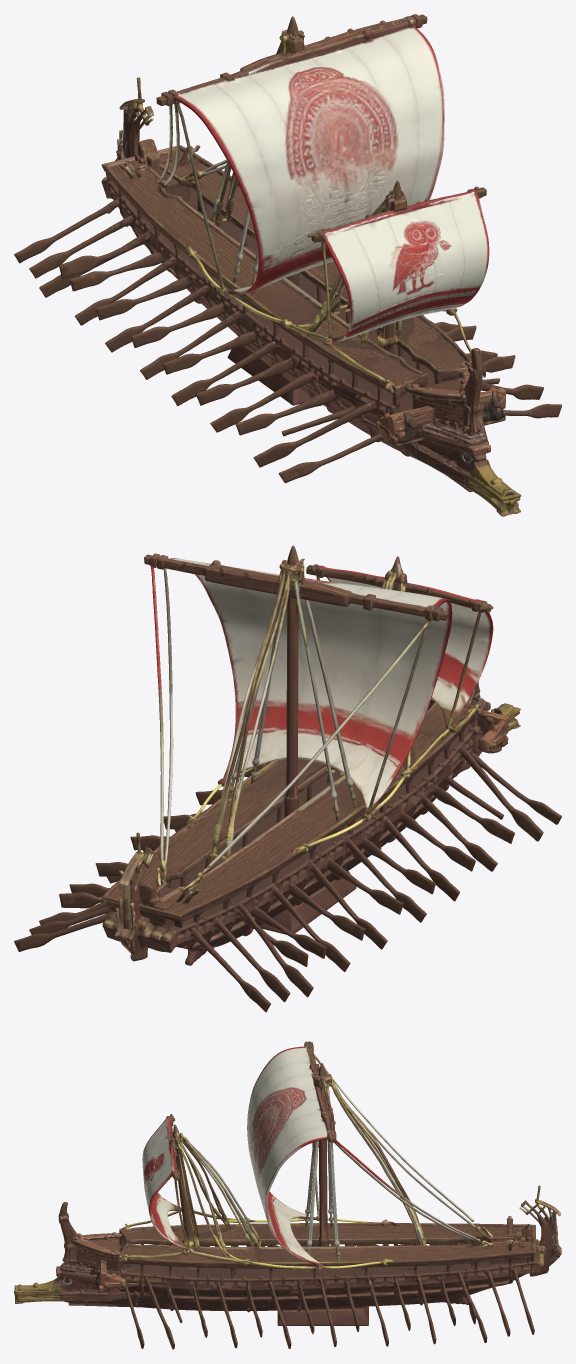
The model's file is Athenian_Greek_Trireme.min.glb.
3 views of the same model, one above another, from view 1: azimuth 30°, elevation 25°; view 2: azimuth 150°, elevation 25°; view 3: azimuth 270°, elevation 25° (orthographic). The views are drawn at different scales.
Visible parts, largest first — view 1: tripo_node_2a0d0580-4efe-495e-9dae-9c11eb5a89bf; view 2: tripo_node_2a0d0580-4efe-495e-9dae-9c11eb5a89bf; view 3: tripo_node_2a0d0580-4efe-495e-9dae-9c11eb5a89bf.
Boxes of the visible parts, x1=… form: tripo_node_2a0d0580-4efe-495e-9dae-9c11eb5a89bf: x1=14, y1=14, x2=561, y2=516; tripo_node_2a0d0580-4efe-495e-9dae-9c11eb5a89bf: x1=14, y1=545, x2=561, y2=1012; tripo_node_2a0d0580-4efe-495e-9dae-9c11eb5a89bf: x1=14, y1=1041, x2=561, y2=1349.
Bounding box in the file's own units: 0.4217 × 0.4982 × 0.9809.
Materials: 1 (1 with a texture image).
